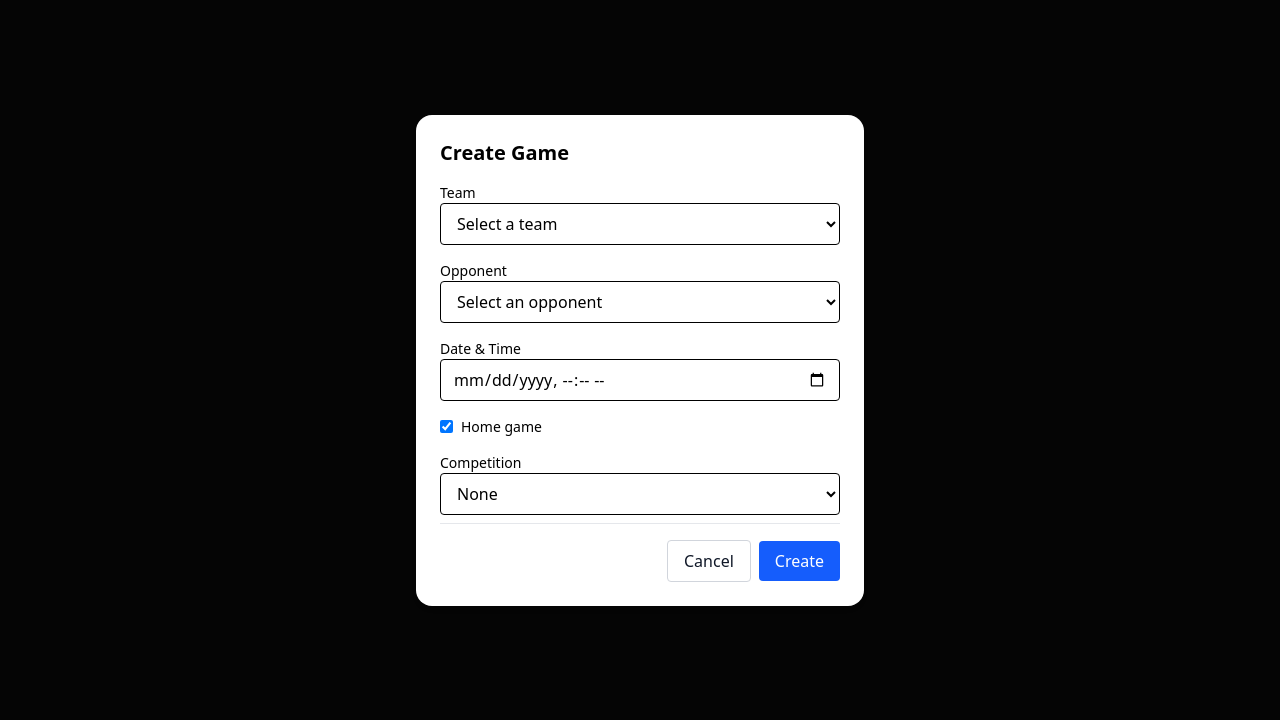
Test case: blocks submission with a message when no opponent is selected (AC GSEL-01.3)
Select "Amadora Sub-11" in the dropdown labelled "Team": x=640, y=224 top-left (440, 202), bottom-right (840, 244)
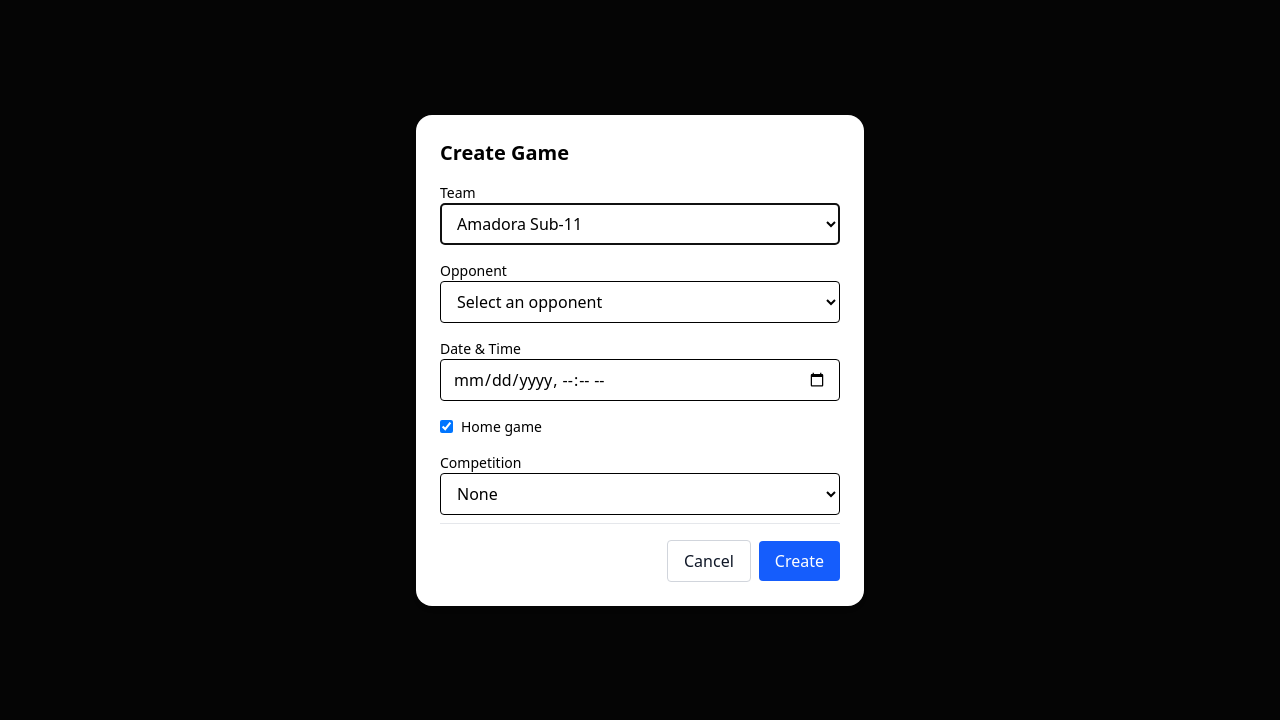
In the field named "date": x=640, y=380 top-left (440, 358), bottom-right (840, 400), type "2027-01-01T10:00"
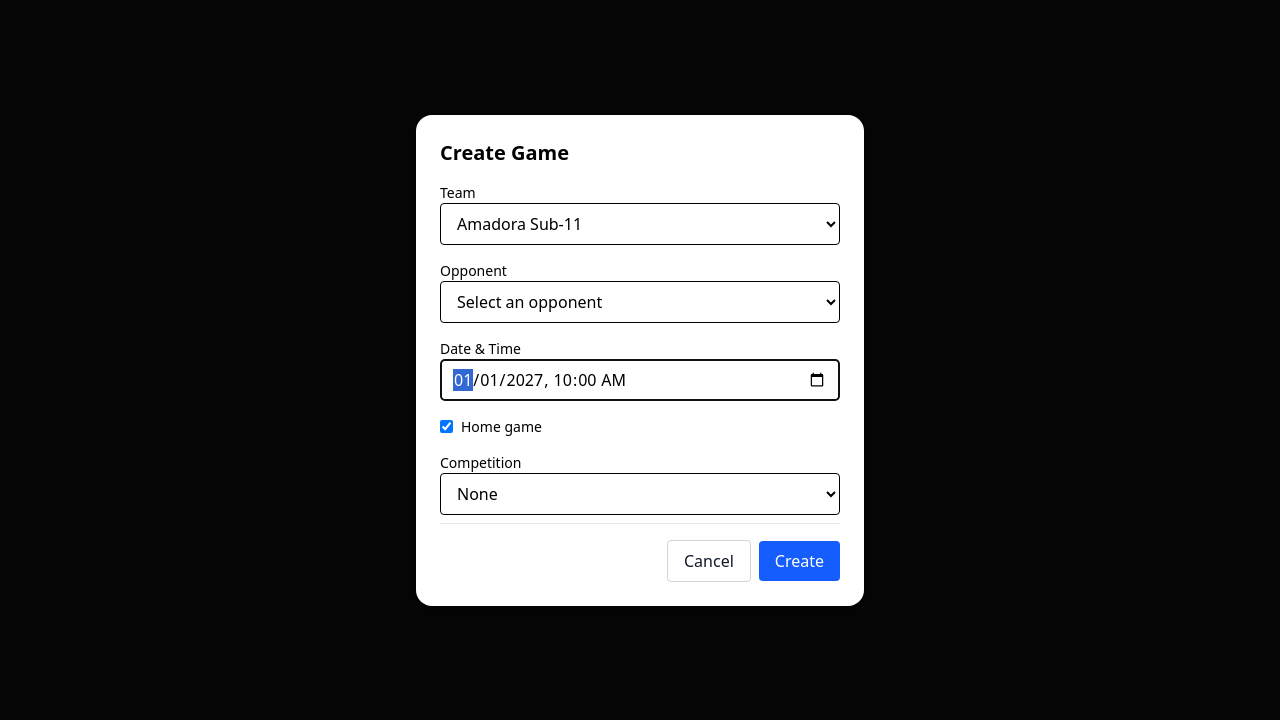
Click the button "Create": x=799, y=560 top-left (759, 540), bottom-right (840, 580)
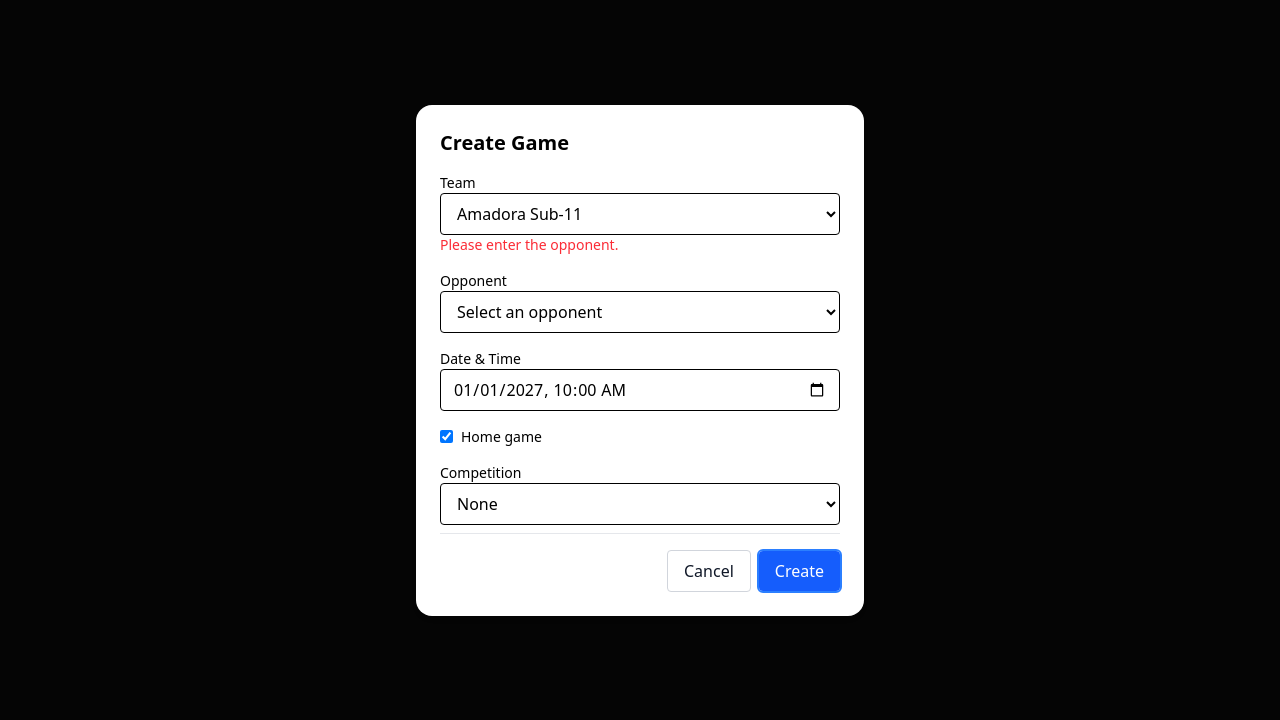
Check: the text "Please enter the opponent." is shown, box top-left (440, 234), bottom-right (618, 254)
